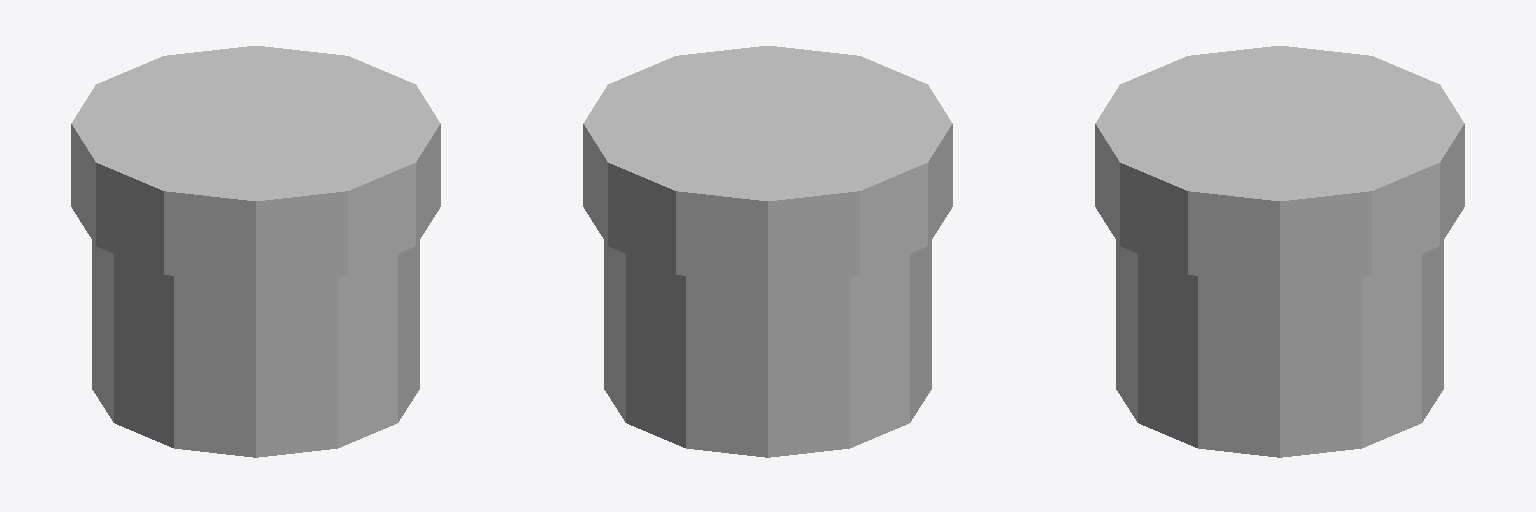
File: continue_pipe.obj
3 views of the same model, side by side, from view 1: azimuth 30°, elevation 25°; view 2: azimuth 150°, elevation 25°; view 3: azimuth 270°, elevation 25° (orthographic).
Parts seen in each view (by area): view 1: pipe2, pipe1; view 2: pipe2, pipe1; view 3: pipe2, pipe1.
Part boxes in pixels (x1,y1,x2,y2): pipe2: (71,46,440,284); pipe1: (92,241,419,457); pipe2: (583,46,952,284); pipe1: (604,241,931,457); pipe2: (1095,46,1464,284); pipe1: (1116,241,1443,457).
Bounding box in the file's own units: 2.25 × 1.78 × 2.25.